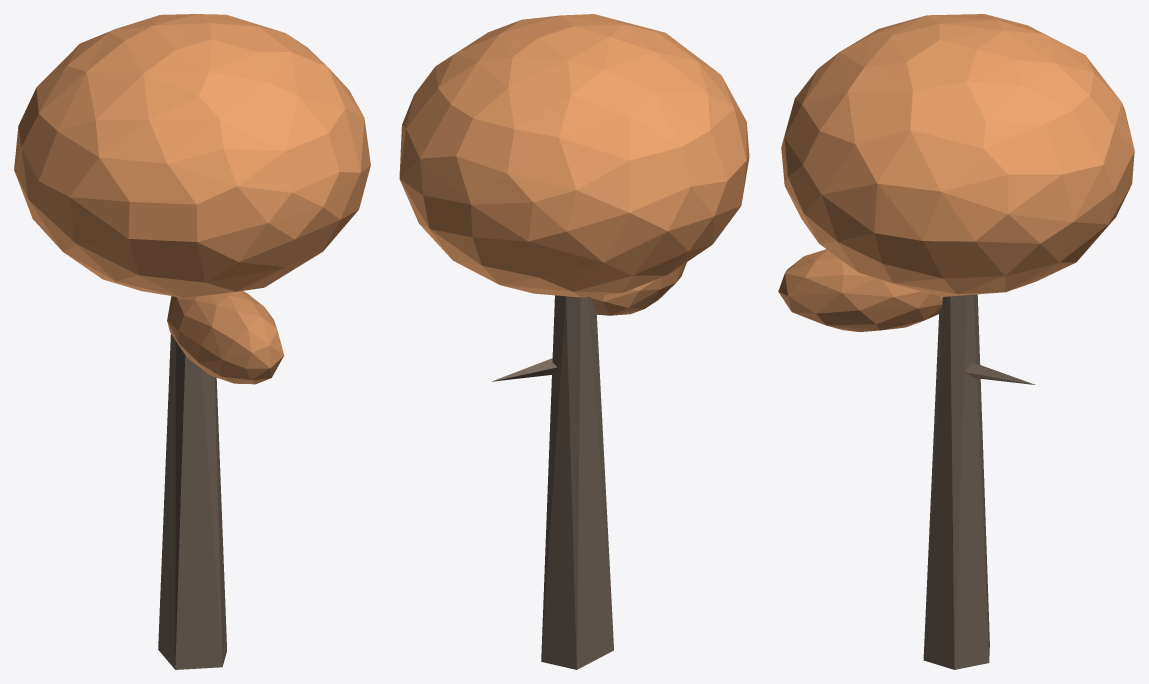
File: tree.fbx
3 views of the same model, side by side, from view 1: azimuth 30°, elevation 25°; view 2: azimuth 150°, elevation 25°; view 3: azimuth 270°, elevation 25° (orthographic).
Parts seen in each view (by area): view 1: tree; view 2: tree; view 3: tree.
Boxes of the visible parts, box(x1,y1,x2,y2) form: tree: box(14, 14, 370, 669); tree: box(399, 14, 749, 669); tree: box(778, 14, 1134, 669).
Bounding box in the file's own units: 399 × 773 × 403.
